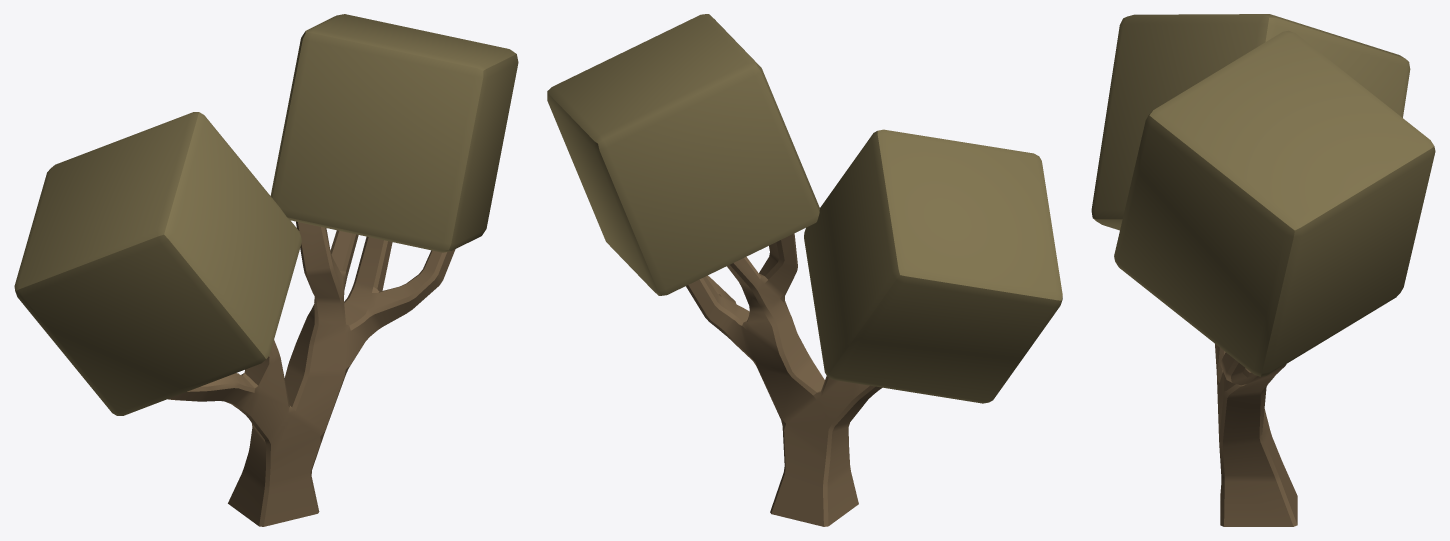
File: Tree_3.glb
3 renders of one model, left to right at view 1: azimuth 30°, elevation 25°; view 2: azimuth 150°, elevation 25°; view 3: azimuth 270°, elevation 25°, orthographic. The views are drawn at different scales.
Parts seen in each view (by area): view 1: Tree_3; view 2: Tree_3; view 3: Tree_3.
Boxes of the visible parts, x1,y1,x2,y2 form: Tree_3: (14, 14, 518, 526); Tree_3: (547, 14, 1062, 526); Tree_3: (1091, 14, 1435, 526).
Bounding box in the file's own units: 9.13 × 7.71 × 4.75.
1 material, 1 textured.
